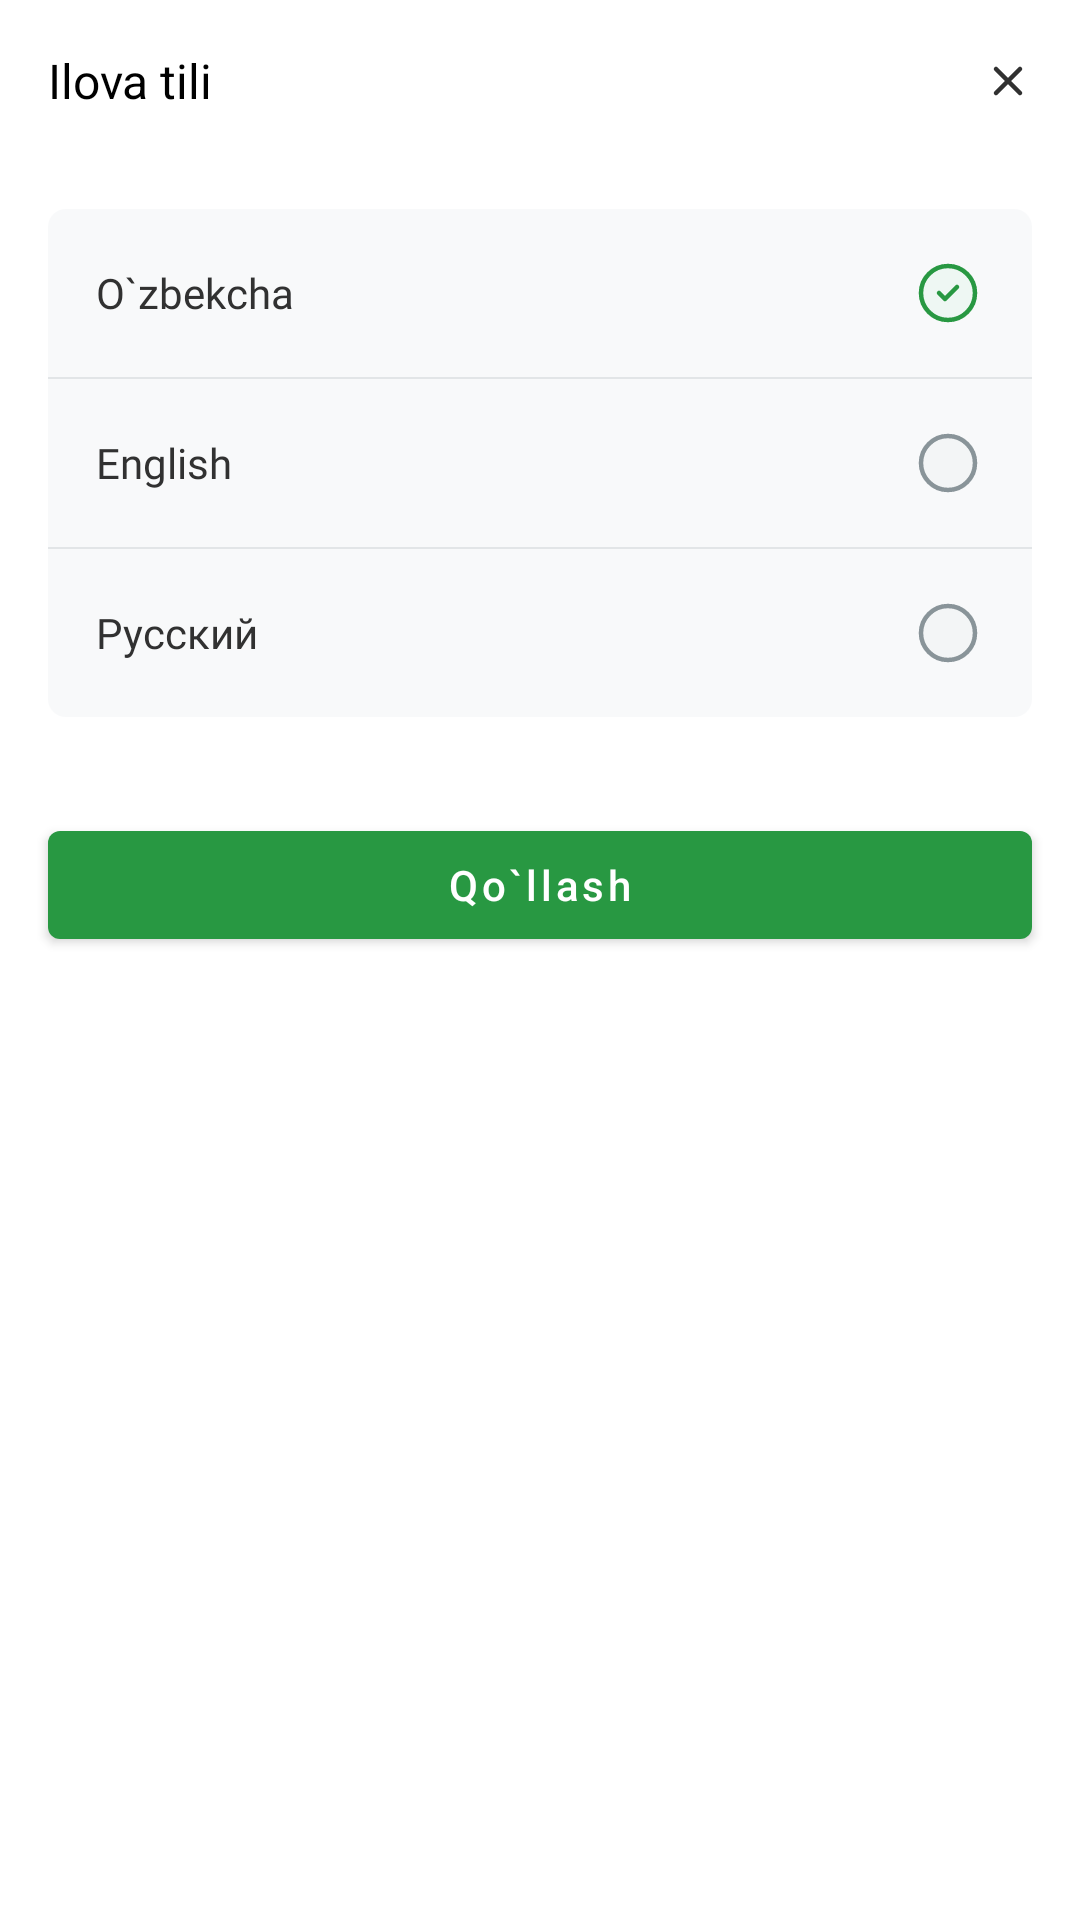

Screen size 1080*1920. Icon name, then its box in pixels as {"x1": x1, "y1": y1, "x2": x2, "y2": y2}:
Bekor qilish: {"x1": 993, "y1": 66, "x2": 1023, "y2": 96}
